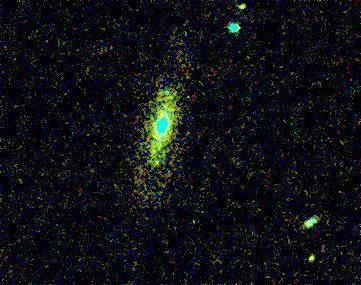star: (291, 244, 321, 274)
